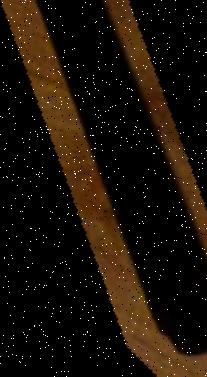black: (1, 0, 207, 377)
